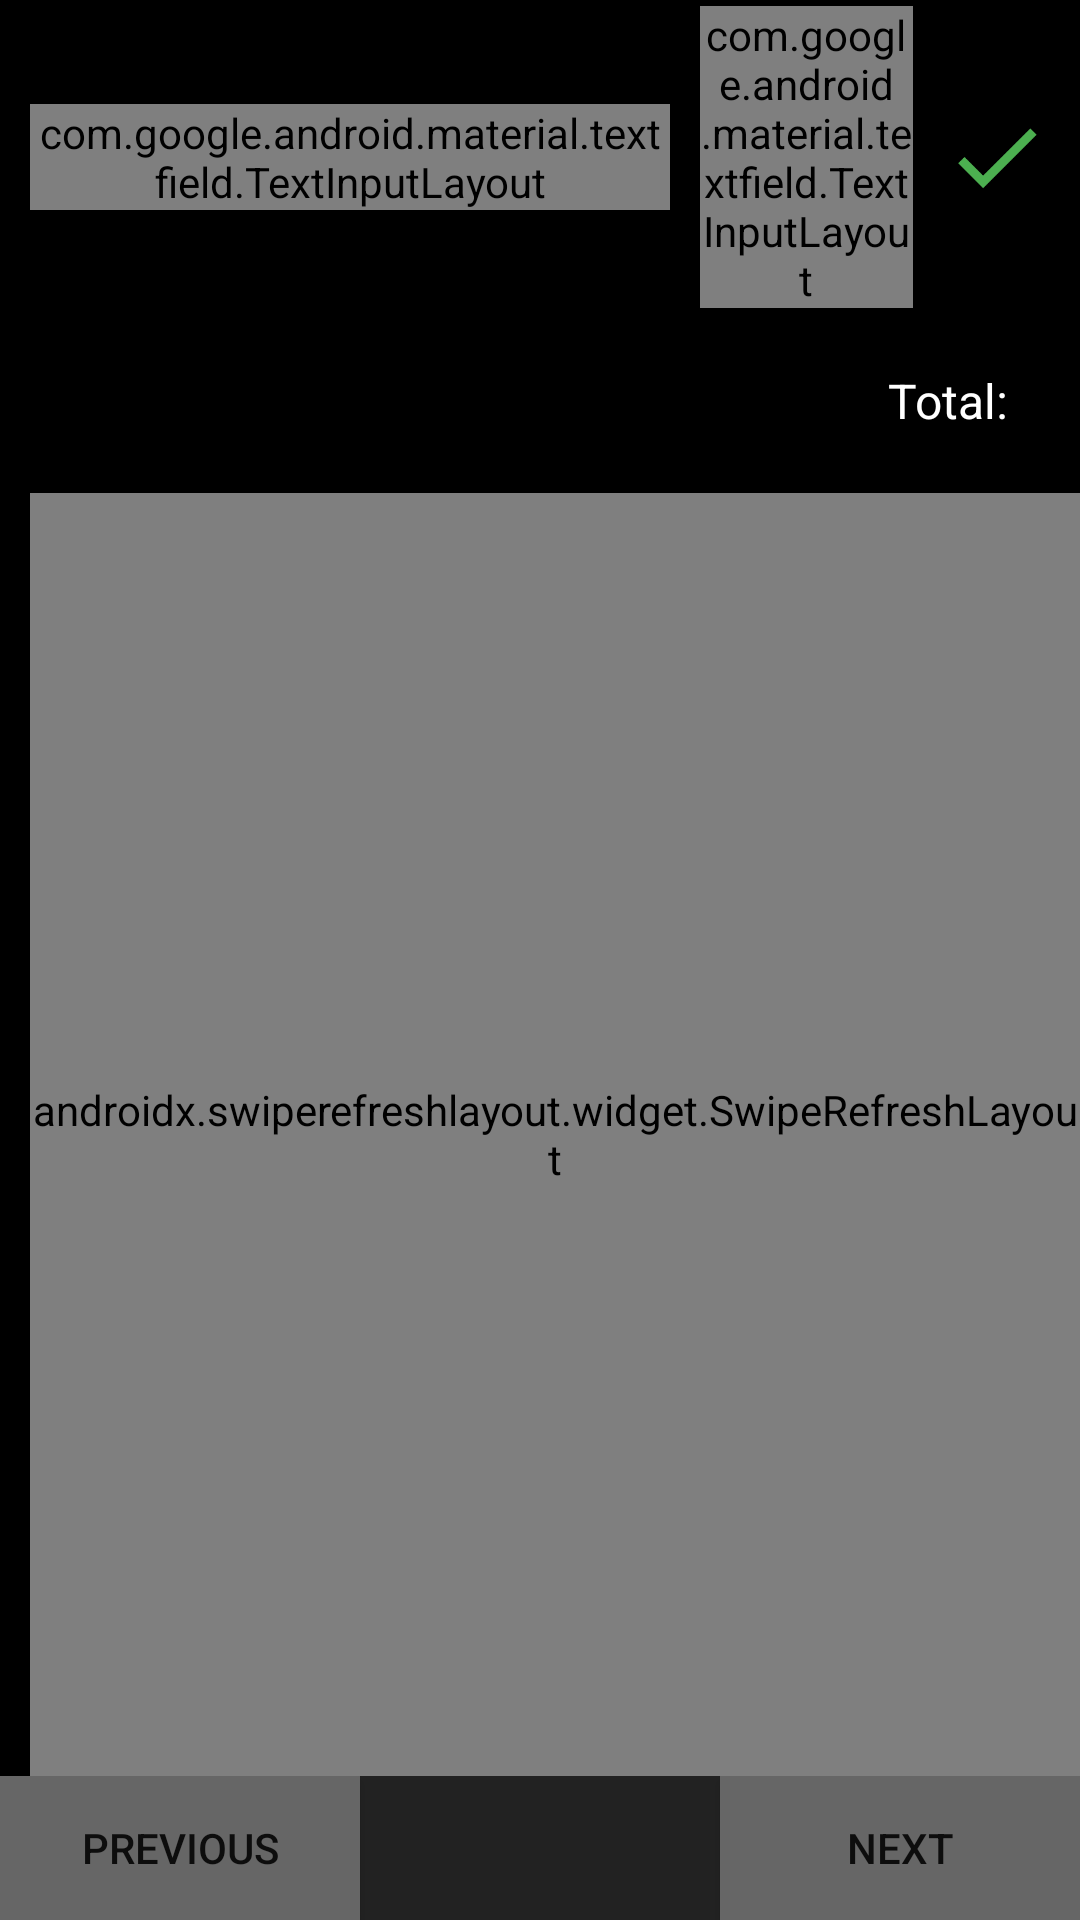

Icons on this 1080x1920 Android screen, each with the point to tap as (x=x, y=y):
check: (x=997, y=158)
